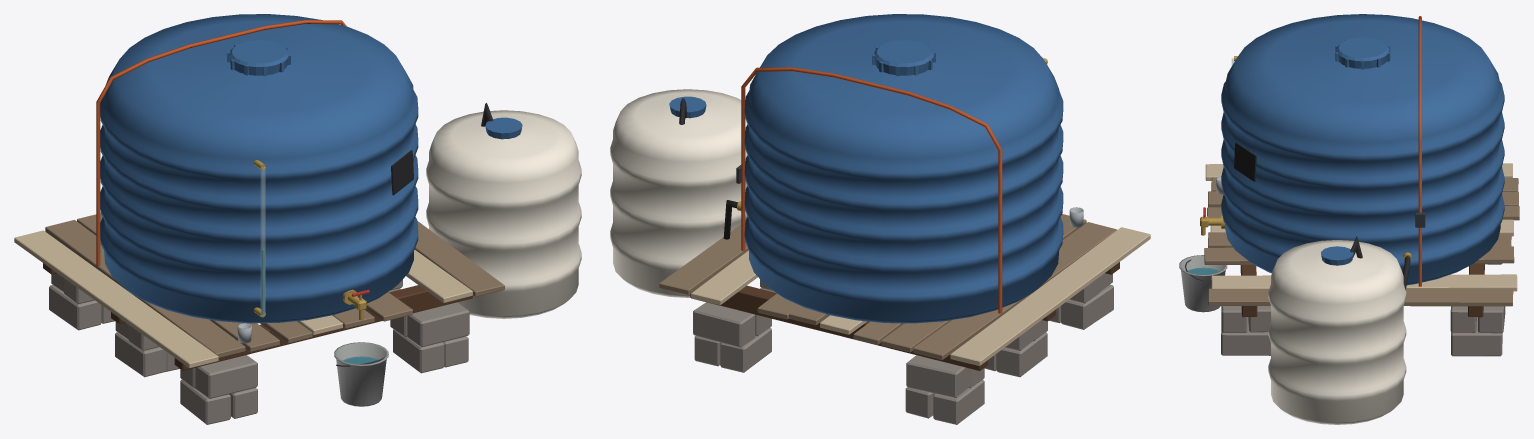
Rendered from deco_water_tank_ground.fbx.
The picture shows the model from 3 angles, left to right: view 1: azimuth 30°, elevation 25°; view 2: azimuth 150°, elevation 25°; view 3: azimuth 270°, elevation 25°; orthographic projection. The views are drawn at different scales.
Visible parts, largest first — view 1: WaterTank_Ground_TankLarge, WaterTank_Ground_Plinth, WaterTank_Ground_TankSmall, WaterTank_Ground_Fittings, WaterTank_Ground_Bucket; view 2: WaterTank_Ground_TankLarge, WaterTank_Ground_Plinth, WaterTank_Ground_TankSmall, WaterTank_Ground_Fittings; view 3: WaterTank_Ground_TankLarge, WaterTank_Ground_TankSmall, WaterTank_Ground_Plinth, WaterTank_Ground_Fittings, WaterTank_Ground_Bucket.
Boxes of the visible parts, x1=… form: WaterTank_Ground_TankLarge: x1=100, y1=14, x2=418, y2=323; WaterTank_Ground_Plinth: x1=14, y1=213, x2=504, y2=424; WaterTank_Ground_TankSmall: x1=426, y1=110, x2=581, y2=318; WaterTank_Ground_Fittings: x1=96, y1=20, x2=493, y2=320; WaterTank_Ground_Bucket: x1=237, y1=323, x2=388, y2=406; WaterTank_Ground_TankLarge: x1=744, y1=14, x2=1063, y2=323; WaterTank_Ground_Plinth: x1=659, y1=214, x2=1150, y2=424; WaterTank_Ground_TankSmall: x1=610, y1=89, x2=747, y2=297; WaterTank_Ground_Fittings: x1=679, y1=58, x2=1047, y2=313; WaterTank_Ground_TankLarge: x1=1221, y1=14, x2=1504, y2=285; WaterTank_Ground_TankSmall: x1=1268, y1=240, x2=1406, y2=424; WaterTank_Ground_Plinth: x1=1204, y1=163, x2=1519, y2=356; WaterTank_Ground_Fittings: x1=1200, y1=16, x2=1425, y2=289; WaterTank_Ground_Bucket: x1=1179, y1=176, x2=1227, y2=312.
Size of the model in its own units: 368 by 218 by 267.
